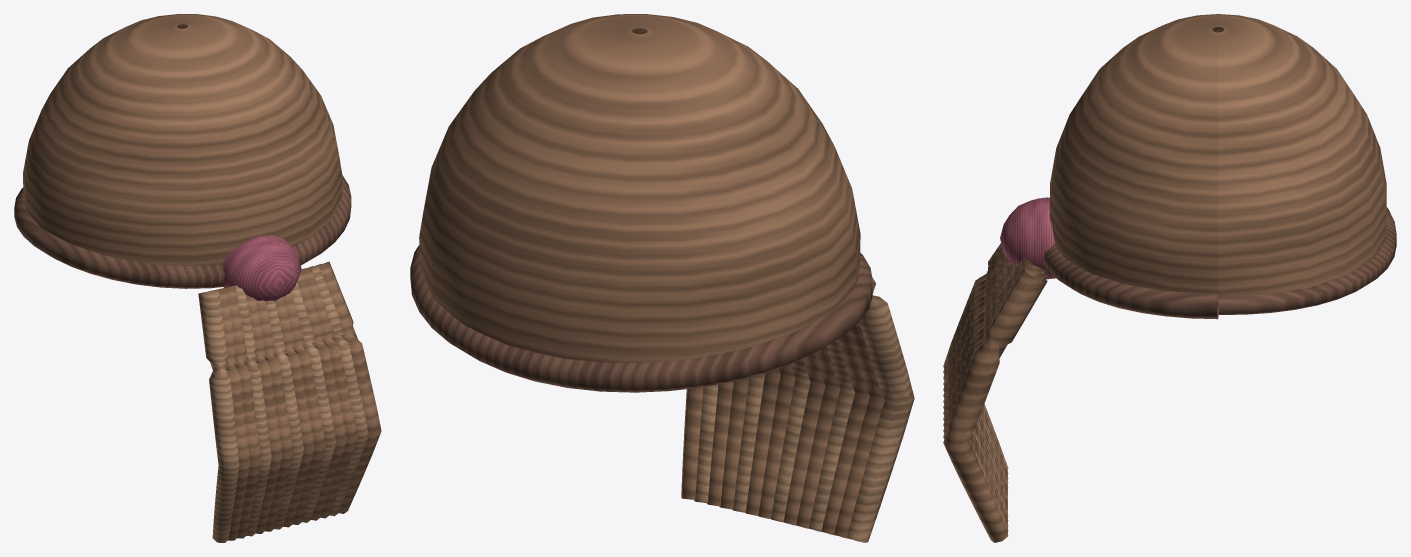
File: hair_sailor_ponytail.glb
3 renders of one model, left to right at view 1: azimuth 30°, elevation 25°; view 2: azimuth 150°, elevation 25°; view 3: azimuth 270°, elevation 25°, orthographic. The views are drawn at different scales.
Parts seen in each view (by area): view 1: hair_sailor_ponytail; view 2: hair_sailor_ponytail; view 3: hair_sailor_ponytail.
Part boxes in pixels (x1,y1,x2,y2): hair_sailor_ponytail: (14, 14, 381, 542); hair_sailor_ponytail: (410, 14, 914, 542); hair_sailor_ponytail: (943, 14, 1396, 542).
Size of the model in its own units: 0.9642 by 1.33 by 1.14.
Materials: 4 (4 with a texture image).
